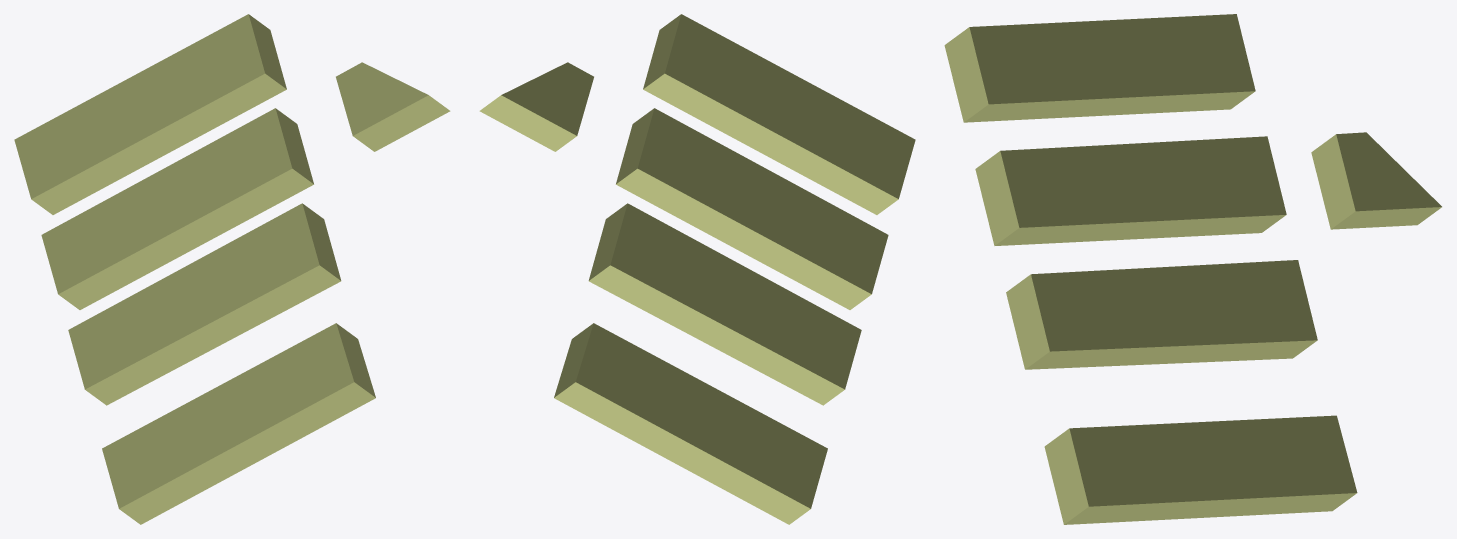
3 renders of one model, left to right at view 1: azimuth 30°, elevation 25°; view 2: azimuth 150°, elevation 25°; view 3: azimuth 330°, elevation 25°, orthographic. The views are drawn at different scales.
Visible parts, largest first — view 1: 0_1_3_2_2_2_2_3; view 2: 0_1_3_2_2_2_2_3; view 3: 0_1_3_2_2_2_2_3.
Part boxes in pixels (x1=…): 0_1_3_2_2_2_2_3: x1=14, y1=14, x2=450, y2=524; 0_1_3_2_2_2_2_3: x1=479, y1=14, x2=915, y2=524; 0_1_3_2_2_2_2_3: x1=944, y1=14, x2=1441, y2=524.
Bounding box in the file's own units: 65.76 × 70.24 × 6.
